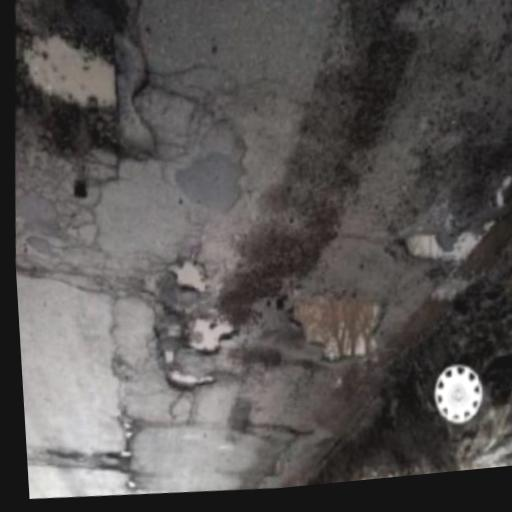pothole: (14, 0, 129, 197), (285, 284, 388, 362), (397, 231, 481, 261), (188, 317, 232, 352), (166, 259, 206, 291), (164, 369, 213, 390), (162, 350, 171, 361), (167, 326, 177, 334)
